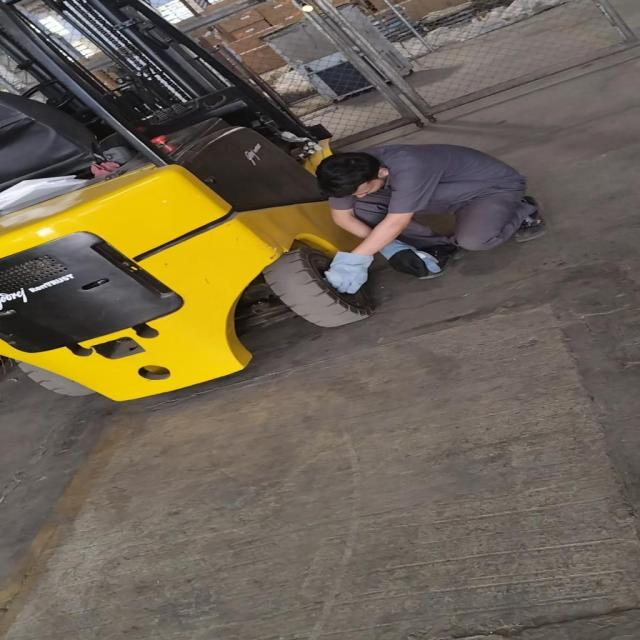Gloves-Detection: (321, 248, 369, 298), (375, 245, 442, 278)
